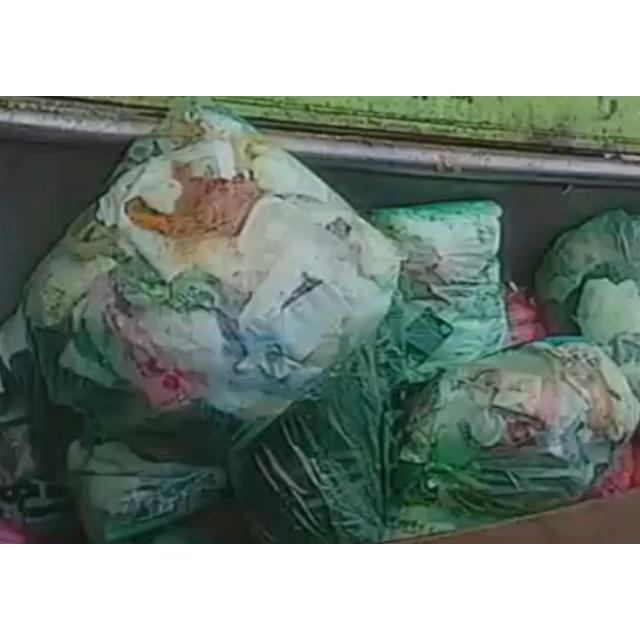general_trashbag: (18, 102, 400, 540), (391, 342, 640, 534), (370, 201, 508, 382), (535, 210, 640, 398)
